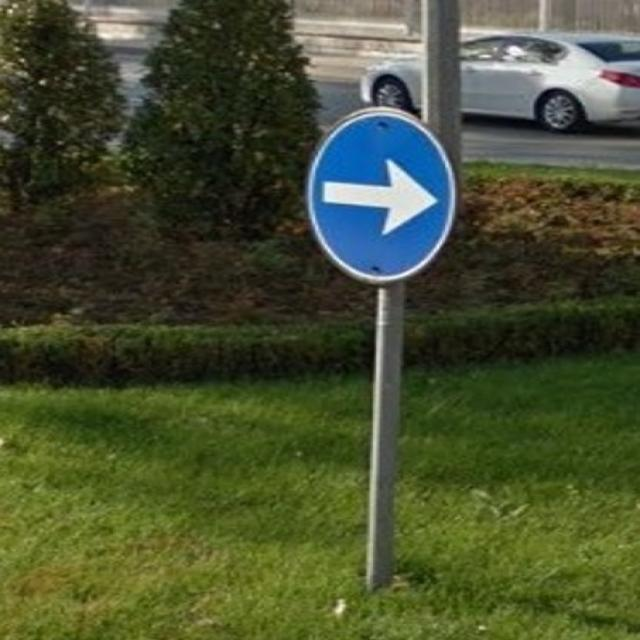Turn Right: (317, 110, 465, 285)
